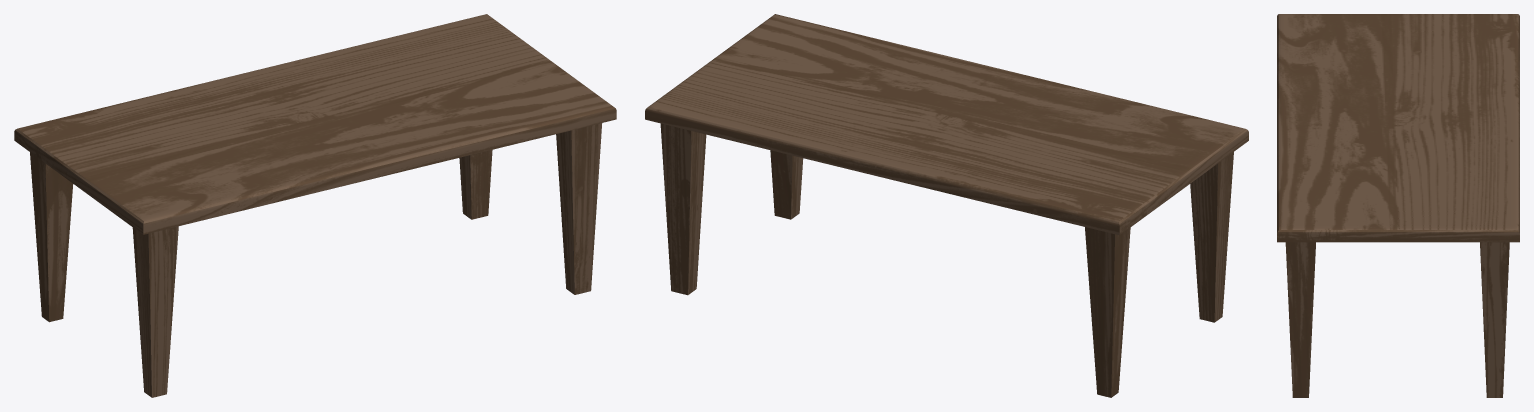
Rendered from bigtable.fbx.
The picture shows the model from 3 angles, left to right: view 1: azimuth 30°, elevation 25°; view 2: azimuth 150°, elevation 25°; view 3: azimuth 270°, elevation 25°; orthographic projection. The views are drawn at different scales.
Parts seen in each view (by area): view 1: pCube1; view 2: pCube1; view 3: pCube1.
Part boxes in pixels (x1=…): pCube1: x1=14, y1=14, x2=616, y2=397; pCube1: x1=645, y1=14, x2=1248, y2=397; pCube1: x1=1277, y1=14, x2=1519, y2=397.
Size of the model in its own units: 18.93 by 7.12 by 8.93.
1 material, 1 textured.
